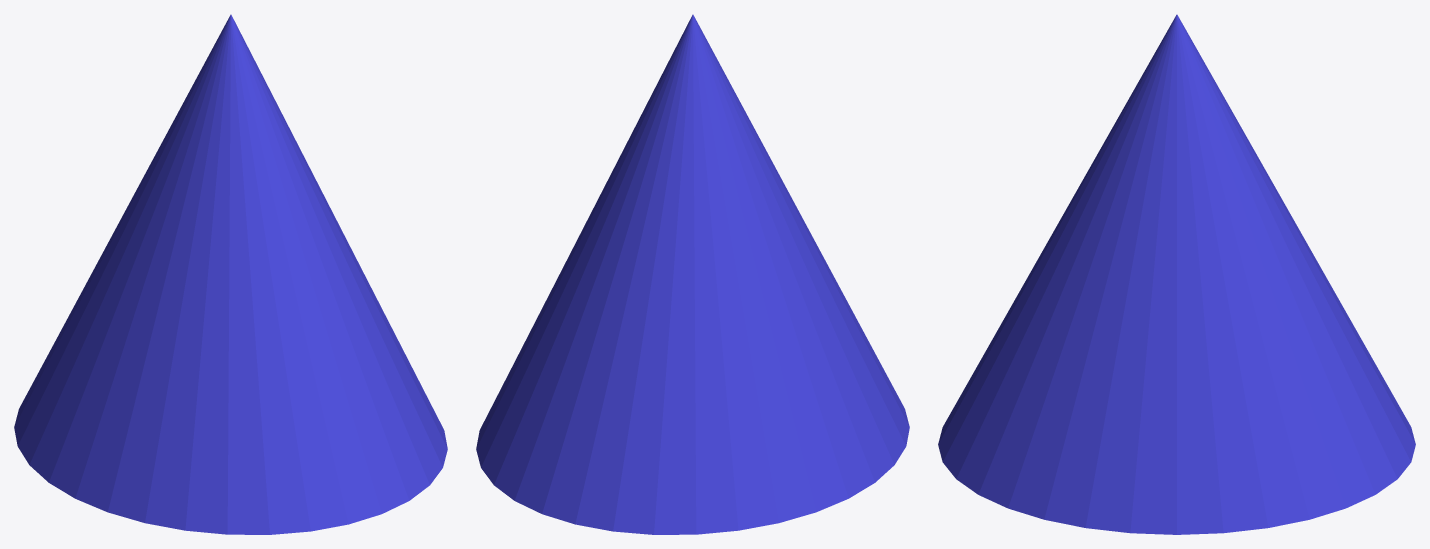
Rendered from TempJumBoostglb.glb.
3 renders of one model, left to right at view 1: azimuth 30°, elevation 25°; view 2: azimuth 150°, elevation 25°; view 3: azimuth 270°, elevation 25°, orthographic.
Visible parts, largest first — view 1: Cone; view 2: Cone; view 3: Cone.
Boxes of the visible parts, left/top/right/bottom form: Cone: left=14, top=14, right=447, bottom=534; Cone: left=476, top=14, right=909, bottom=534; Cone: left=938, top=14, right=1415, bottom=534.
Bounding box in the file's own units: 2.8 × 3.12 × 3.13.
